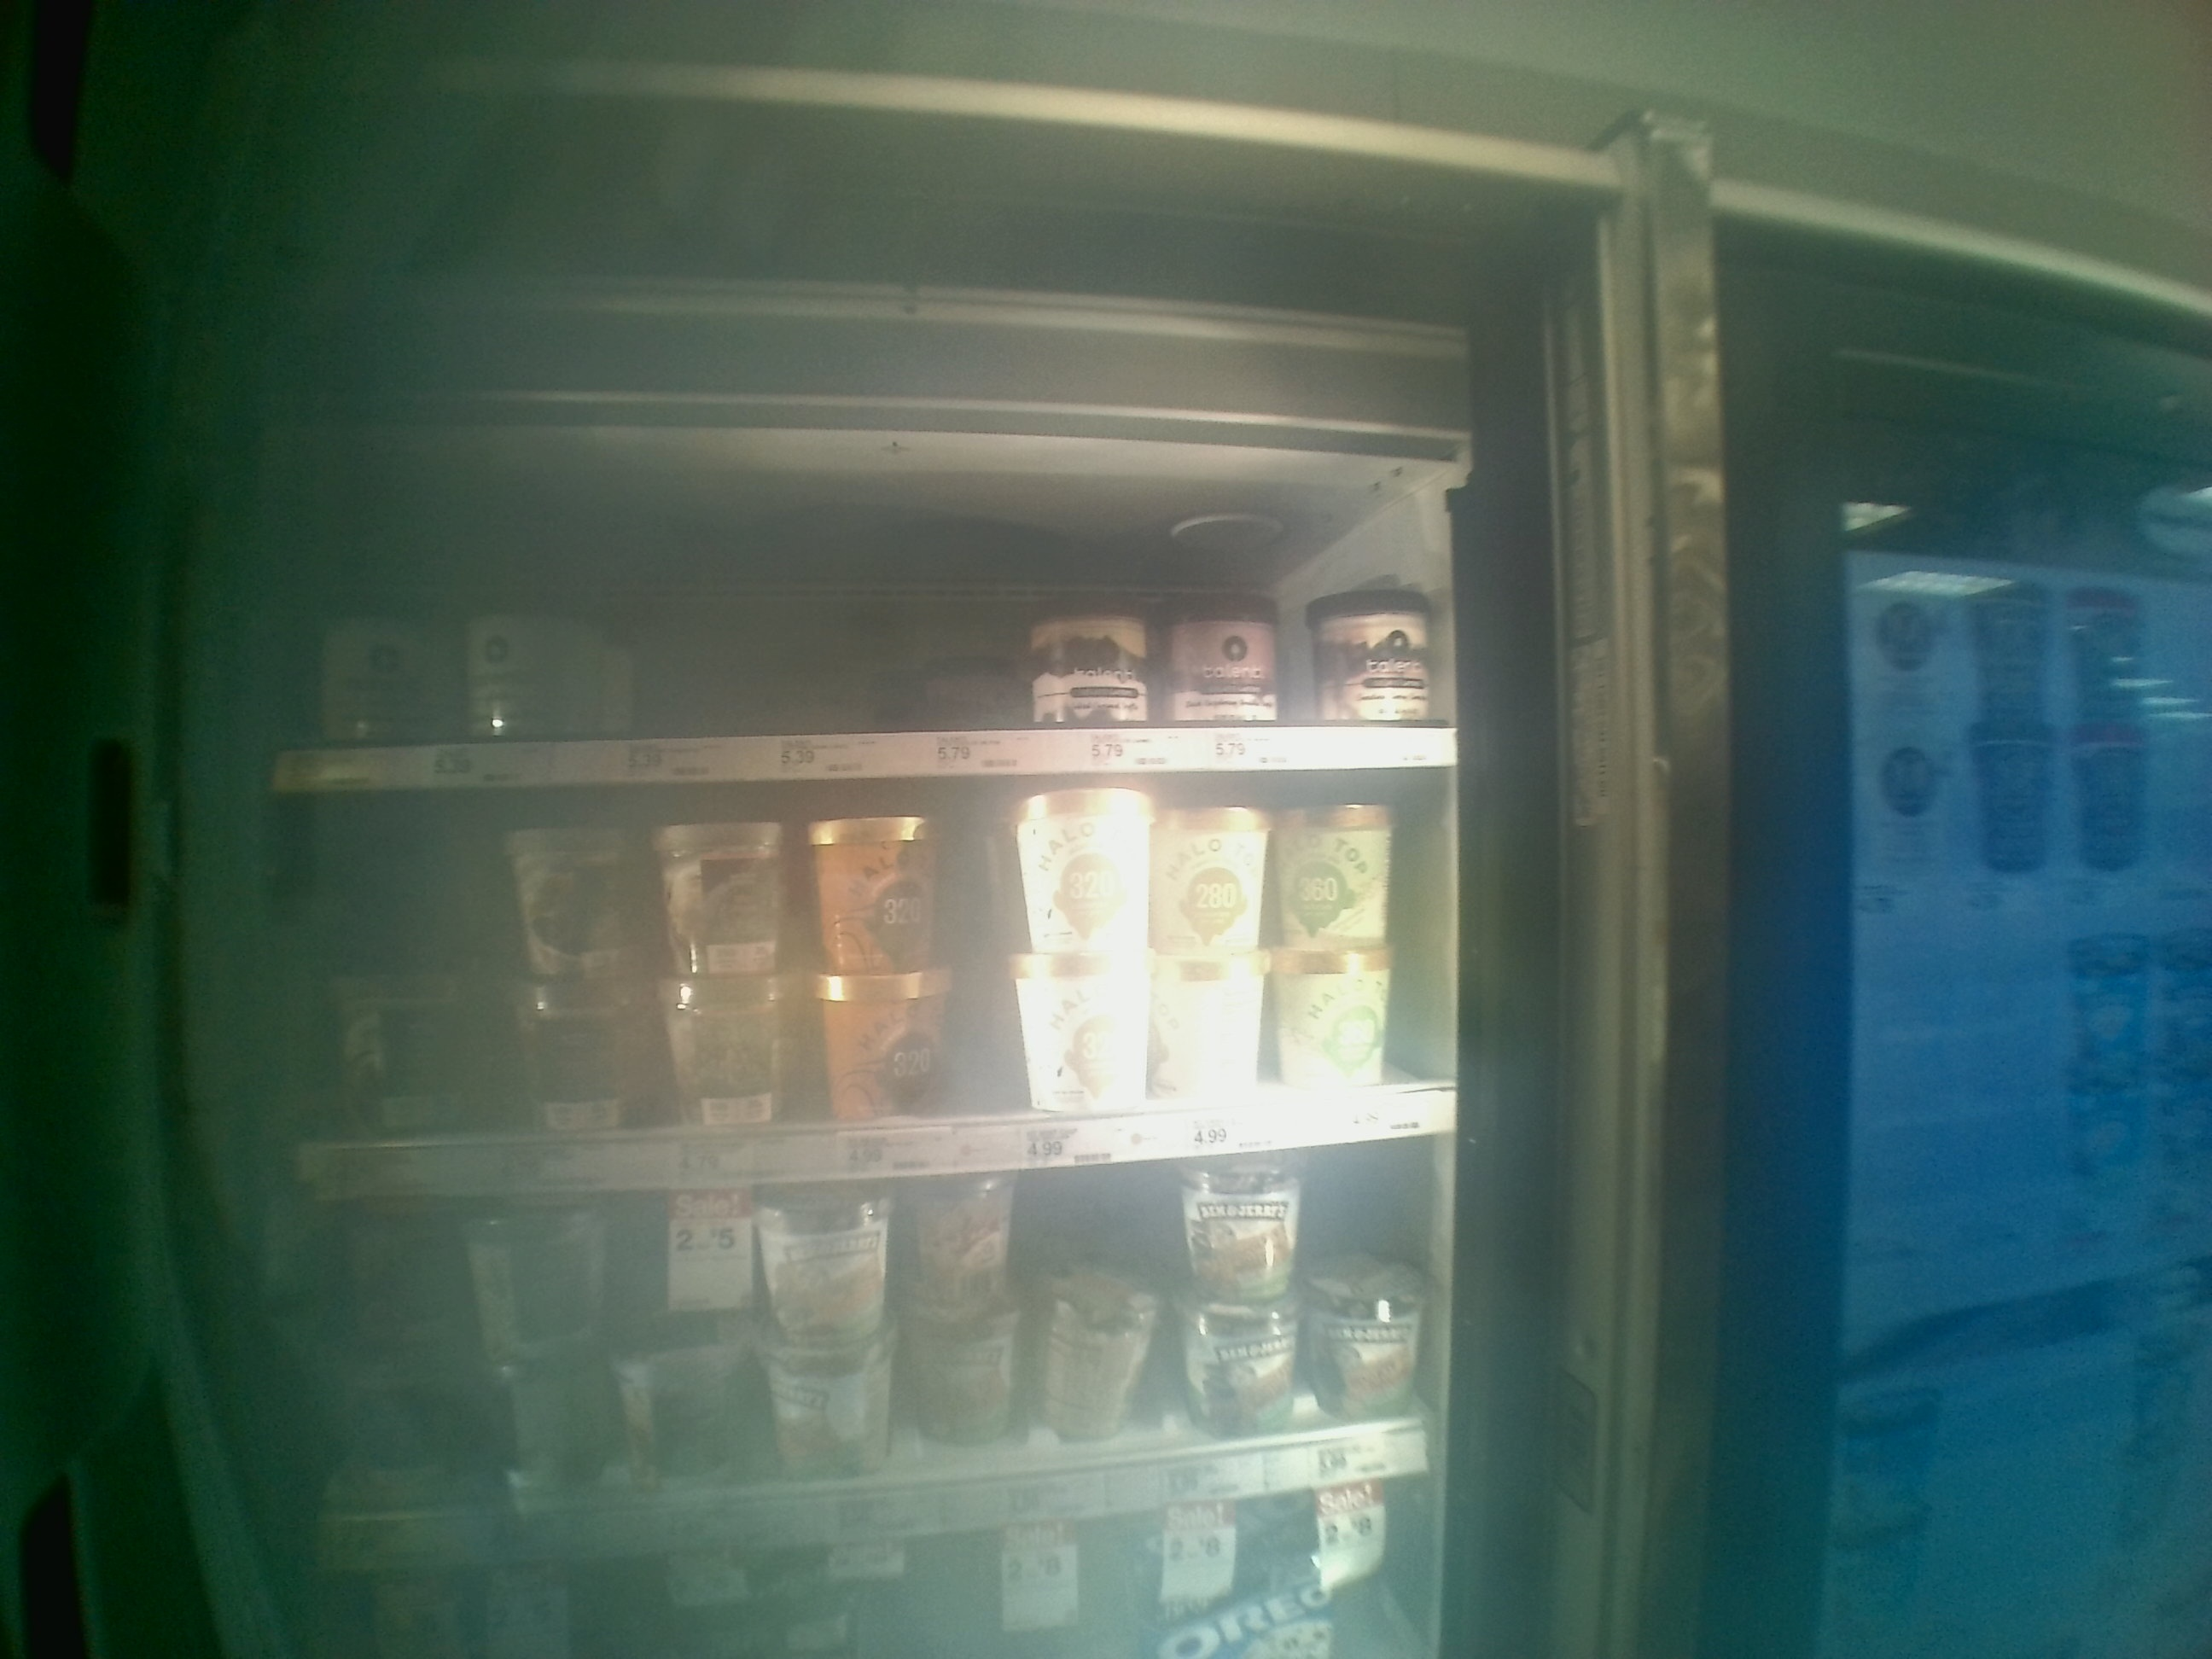shelf: (273, 769, 1460, 1195), (273, 477, 1456, 769)
